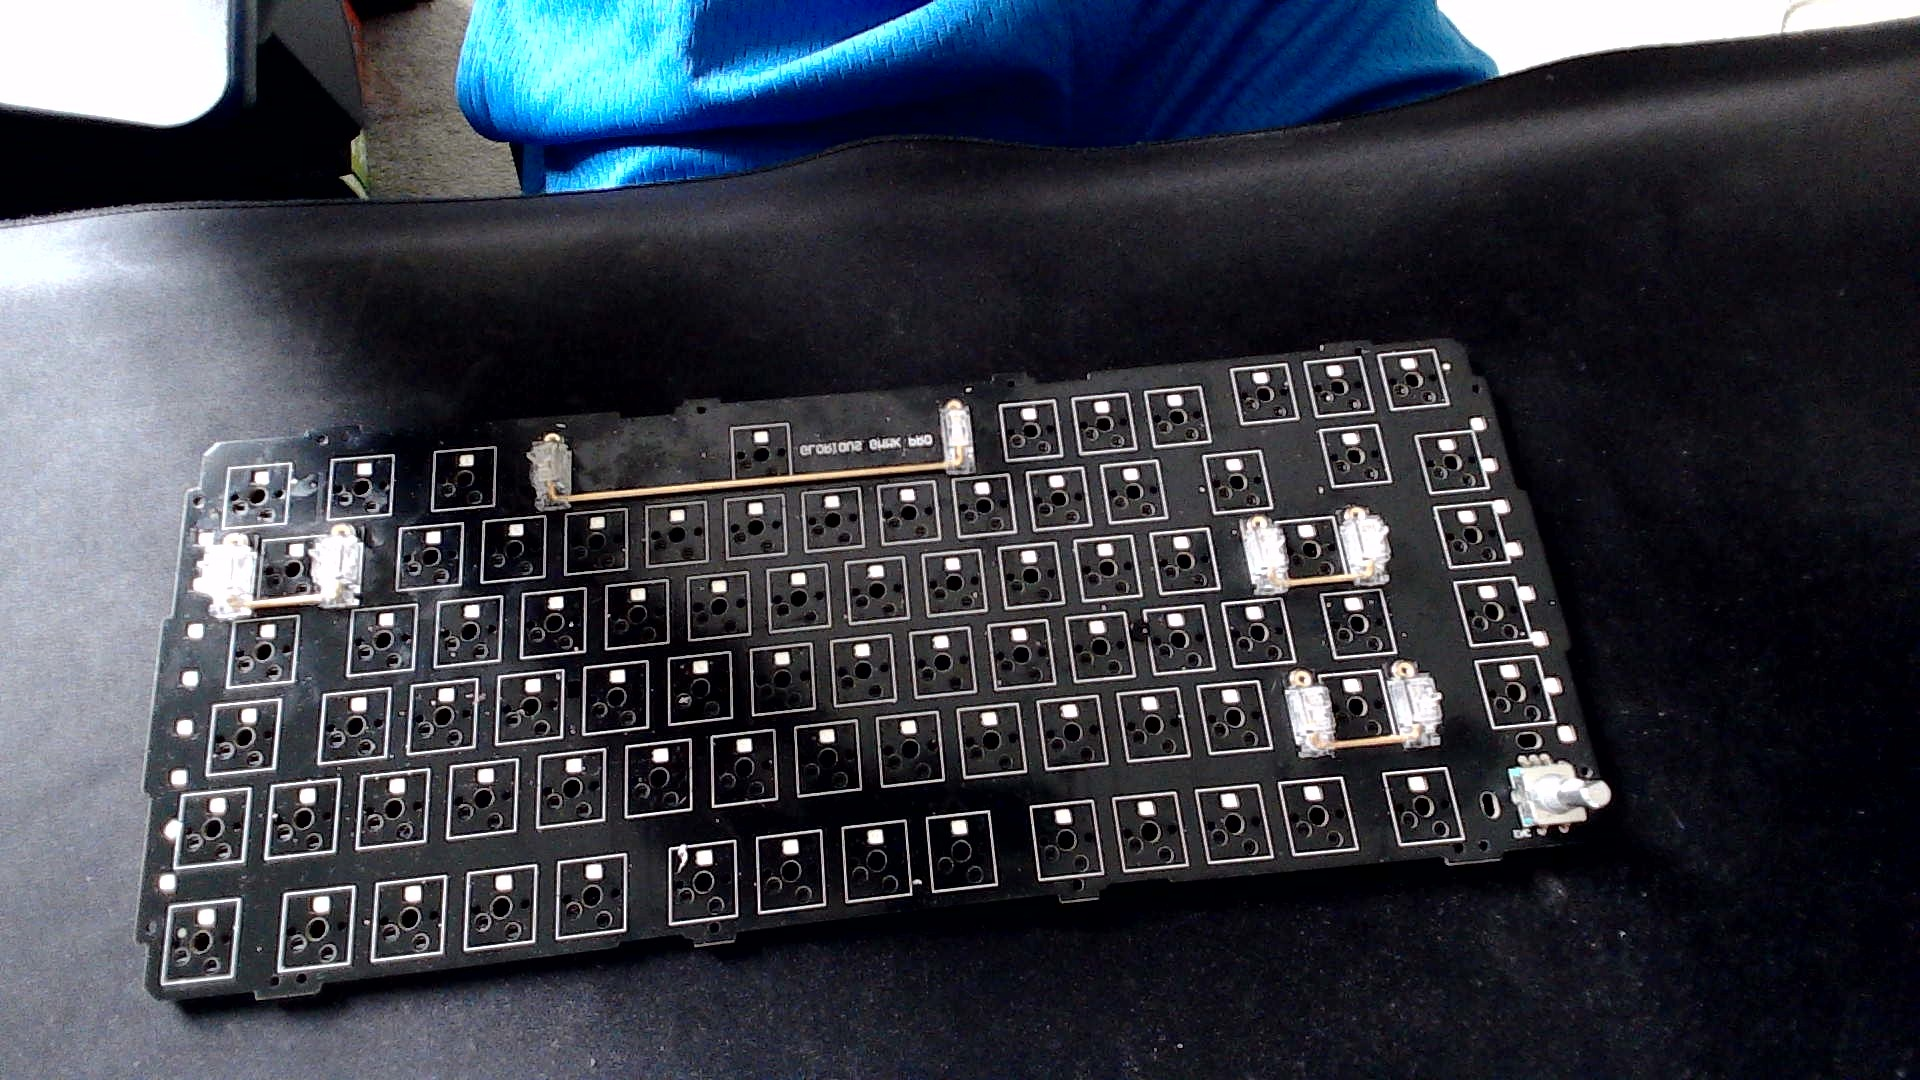pcb: (107, 313, 1659, 1043)
